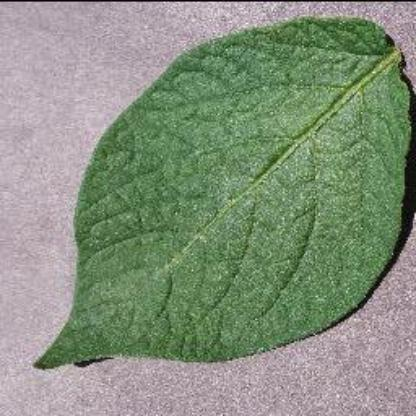Healthy-plant: (37, 7, 415, 384)
